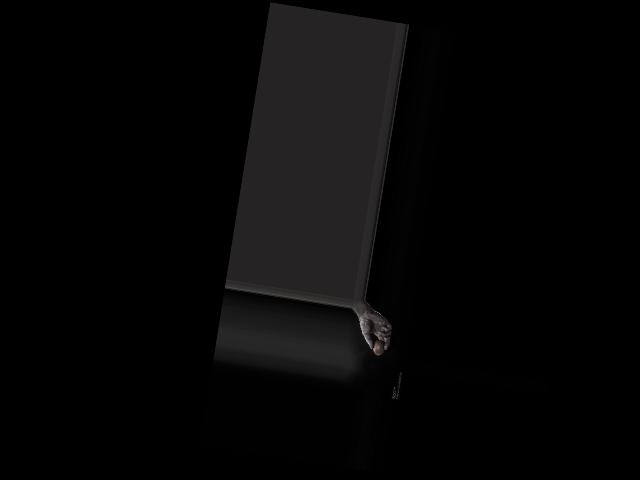egg: (372, 338, 385, 355)
